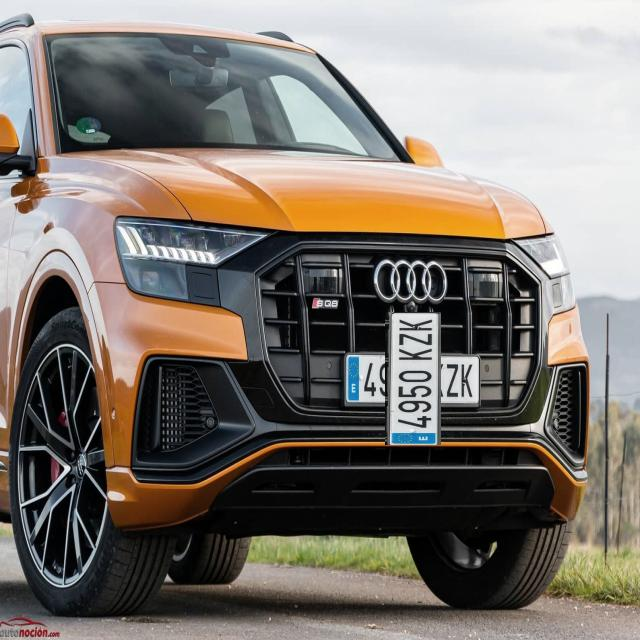License-Plate: (365, 331, 461, 426)
